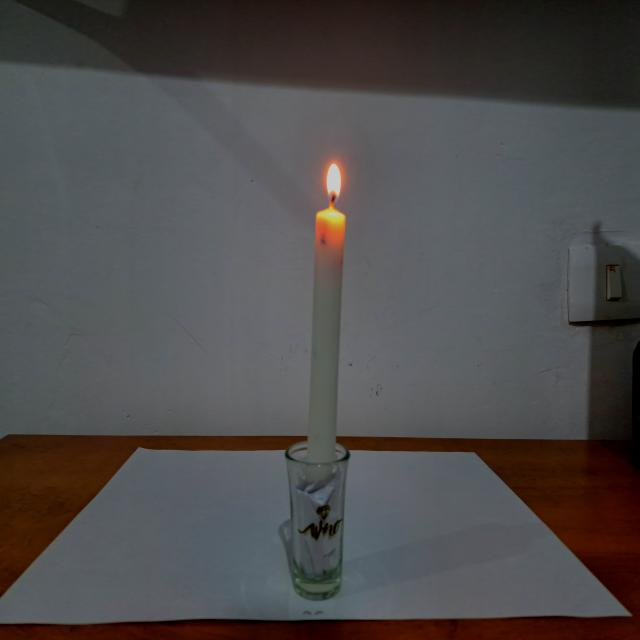candle: (278, 136, 357, 607)
